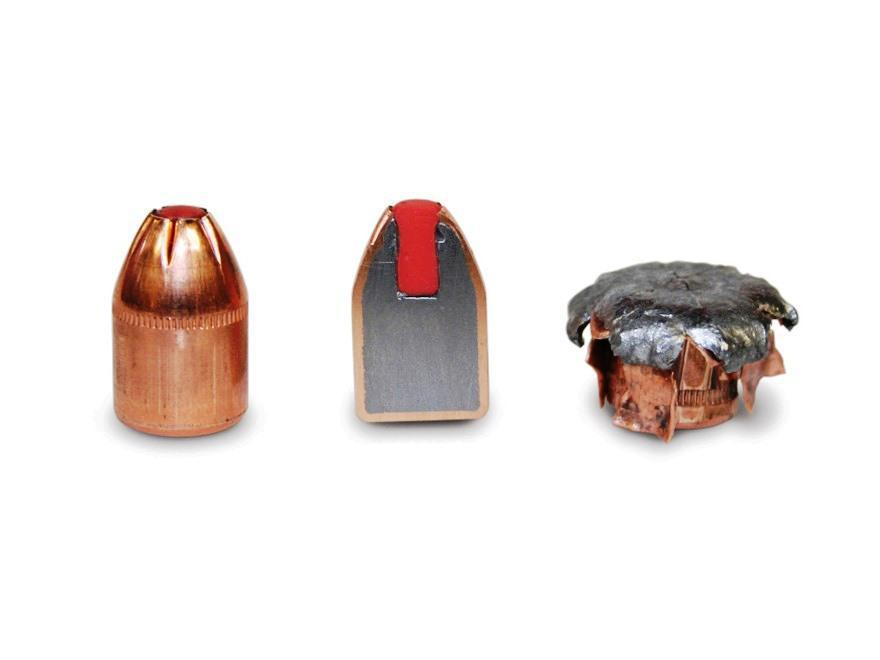Bullet: (564, 241, 812, 457), (106, 196, 270, 436)
